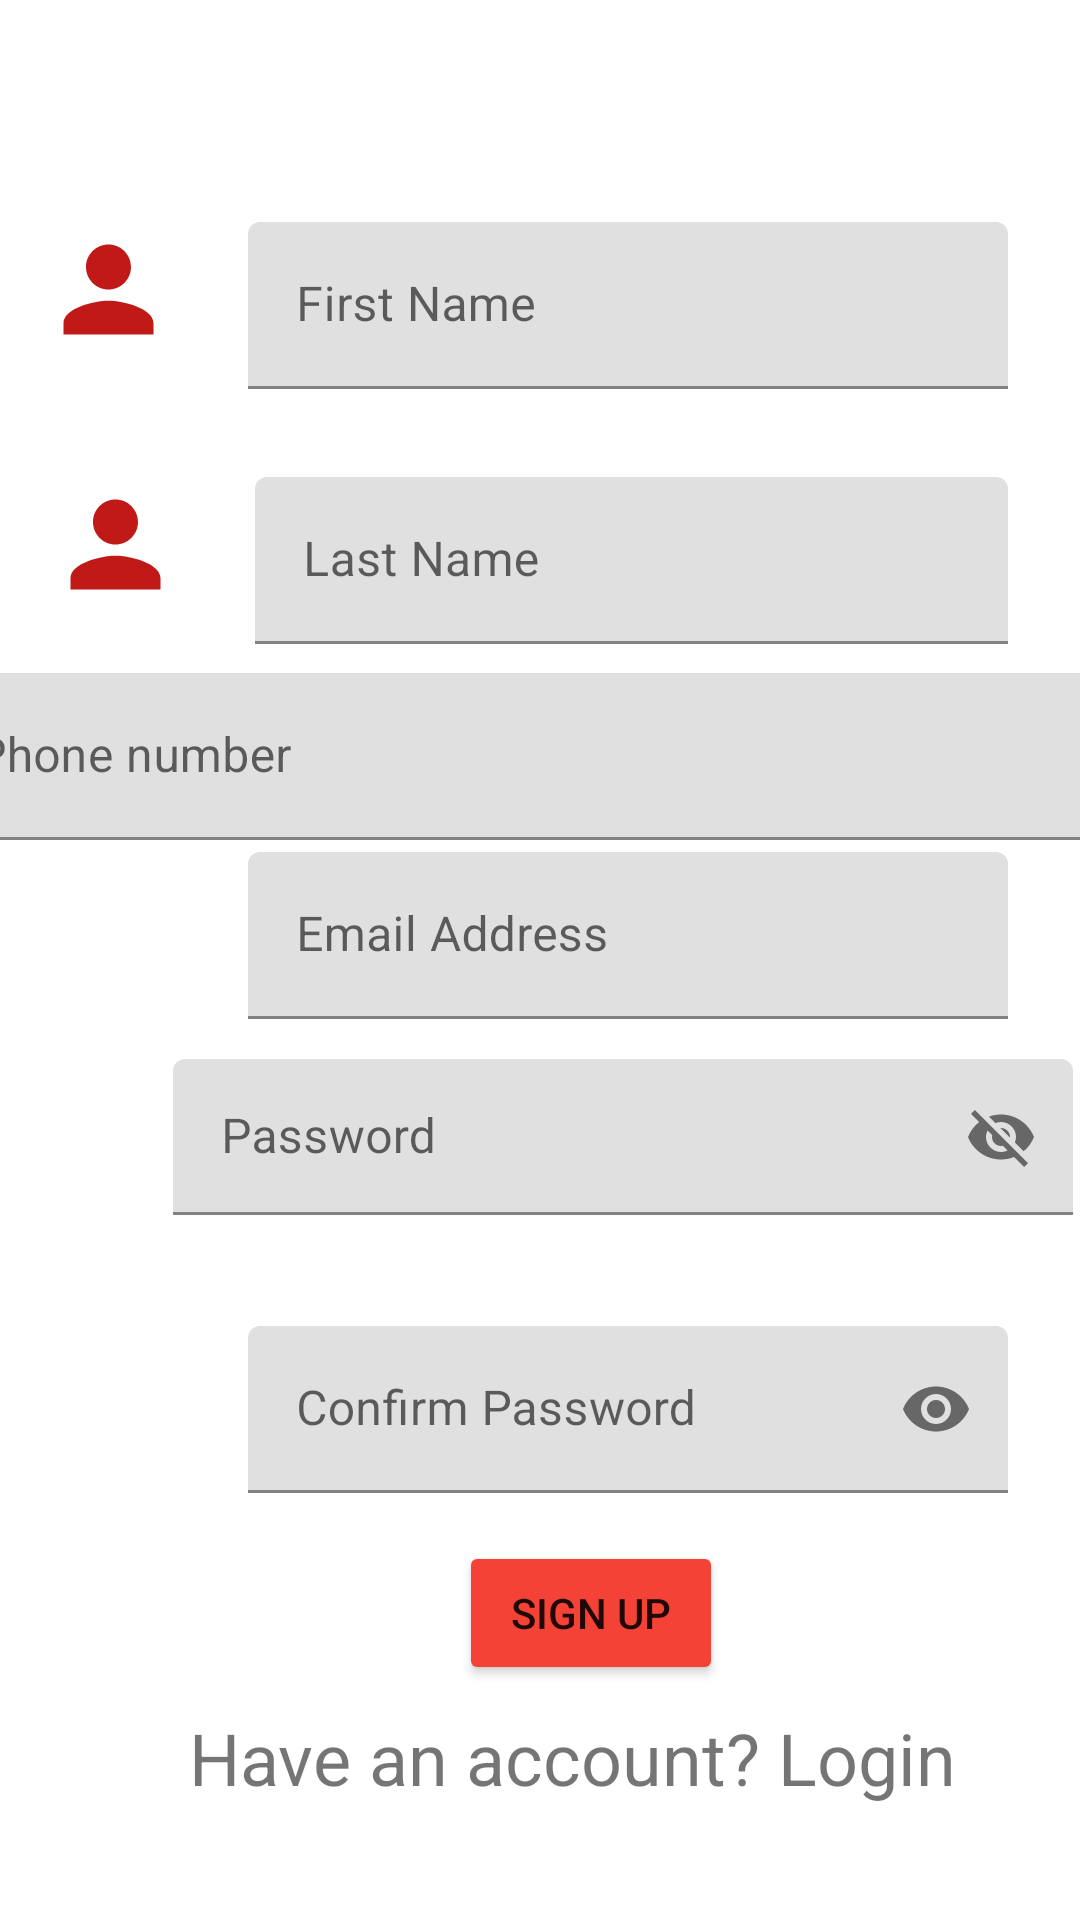

Locate icon controls on the screen. Image size 1080x1920, boxes as (x1, y1, x2, y2).
person: (63, 244, 154, 335), (70, 499, 161, 590)
